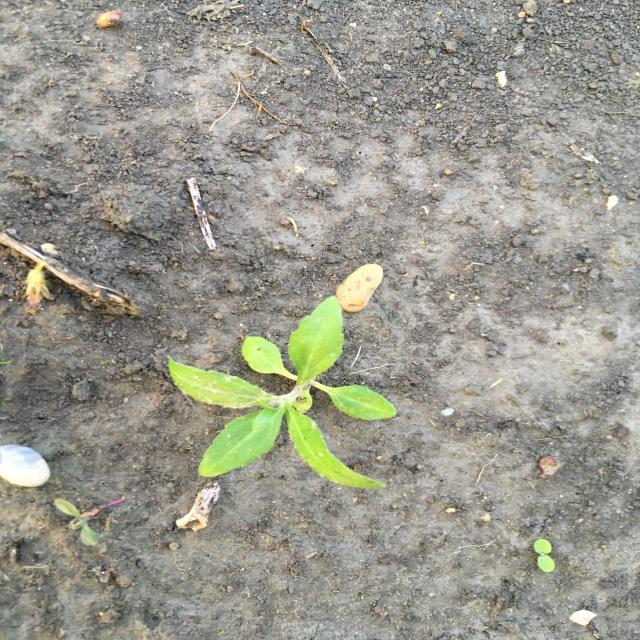Eclipta: (166, 294, 400, 492)
